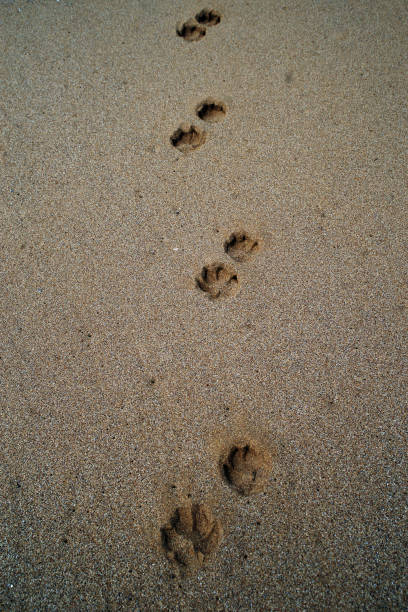animal_foot_print: (162, 504, 222, 571), (222, 443, 270, 494), (196, 262, 239, 298), (224, 231, 260, 261), (170, 123, 205, 152), (196, 98, 226, 121), (177, 18, 205, 41), (196, 8, 221, 25)
